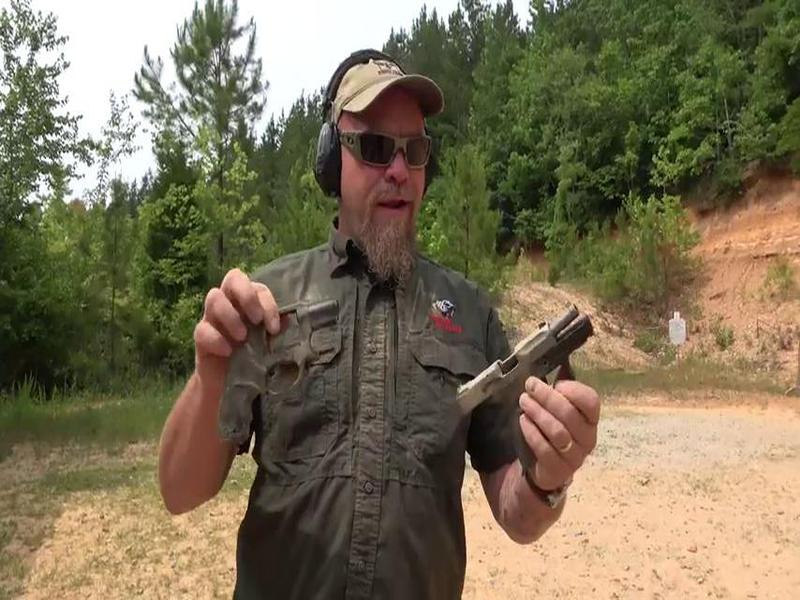Pistola: (445, 280, 617, 498)
Revolver: (188, 274, 366, 489)
